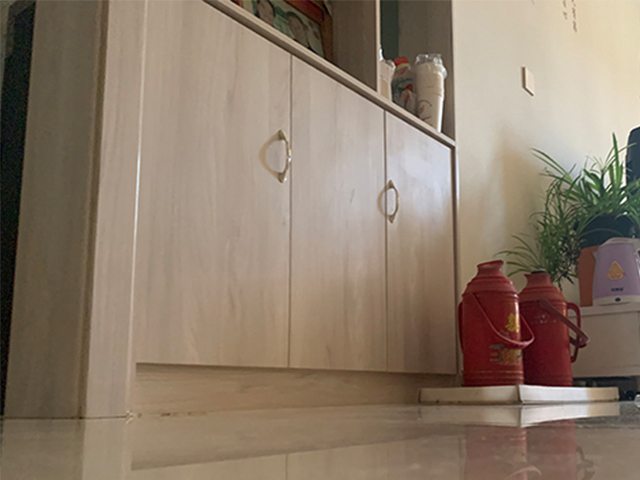cabinet: (125, 1, 456, 415)
